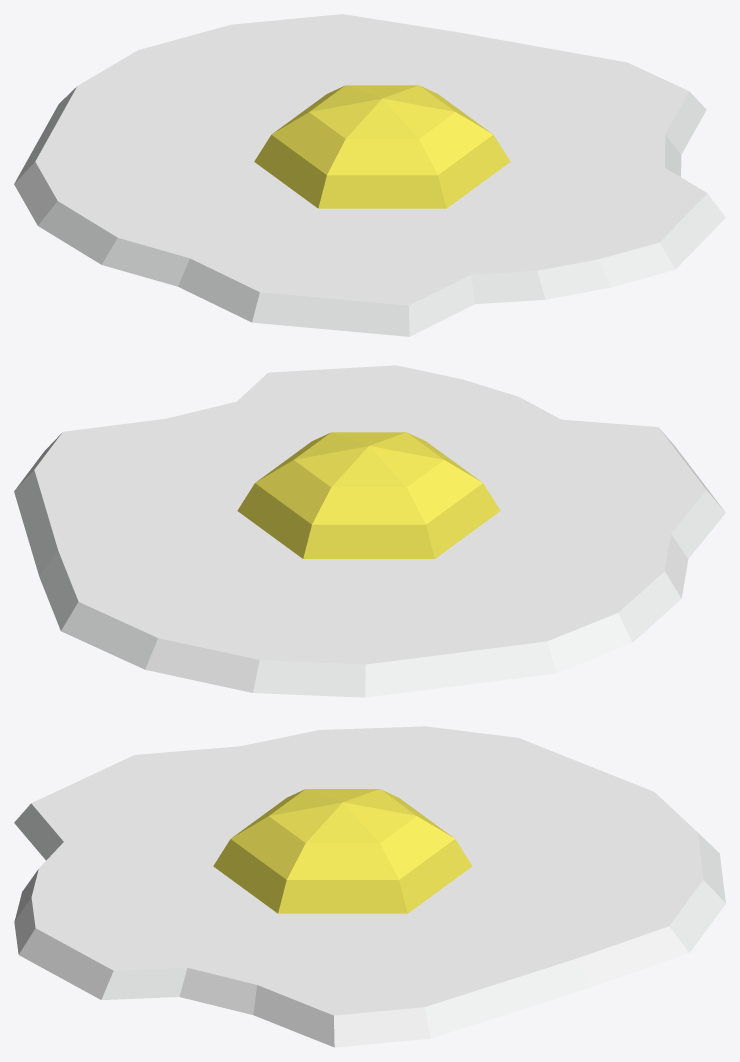
File: MirrorEgg (1).fbx
3 views of the same model, one above another, from view 1: azimuth 30°, elevation 25°; view 2: azimuth 150°, elevation 25°; view 3: azimuth 270°, elevation 25° (orthographic). The views are drawn at different scales.
Visible parts, largest first — view 1: Egged; view 2: Egged; view 3: Egged.
Boxes of the visible parts, bbox=[...] form: Egged: bbox=[14, 14, 725, 336]; Egged: bbox=[14, 365, 725, 697]; Egged: bbox=[14, 726, 725, 1047].
Size of the model in its own units: 29.82 by 3.96 by 29.29.
